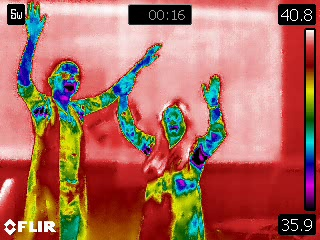human: (15, 1, 161, 240), (115, 74, 239, 240)
